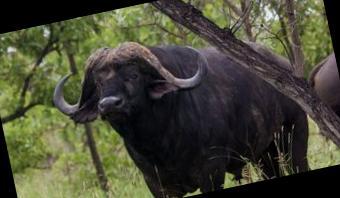Buffalo: (38, 7, 290, 198)
